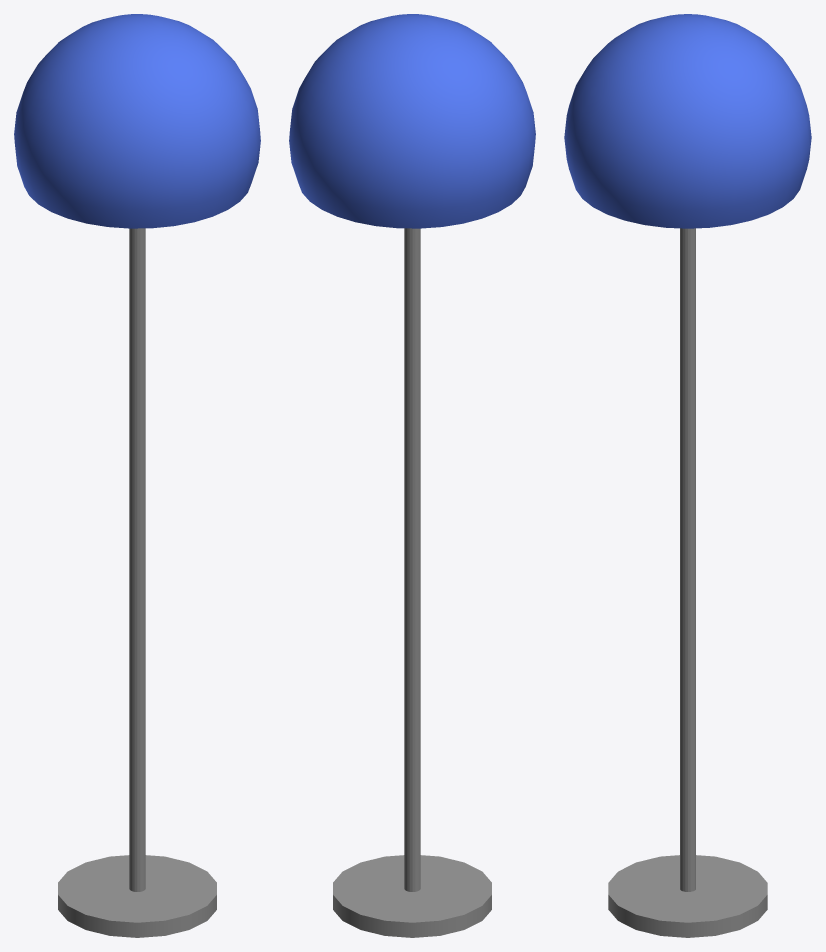
File: lamp 1 - globe.FBX
3 views of the same model, side by side, from view 1: azimuth 30°, elevation 25°; view 2: azimuth 150°, elevation 25°; view 3: azimuth 270°, elevation 25° (orthographic).
Parts seen in each view (by area): view 1: Cylinder004; view 2: Cylinder004; view 3: Cylinder004.
Part boxes in pixels (bbox=[...]): Cylinder004: bbox=[14, 14, 260, 937]; Cylinder004: bbox=[289, 14, 535, 937]; Cylinder004: bbox=[564, 14, 811, 937].
Size of the model in its own units: 30.63 by 120 by 30.63.
